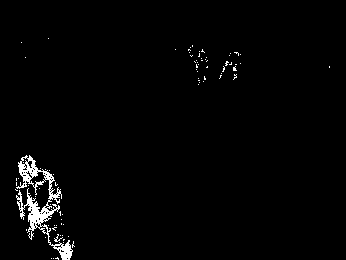person: (13, 154, 75, 260)
